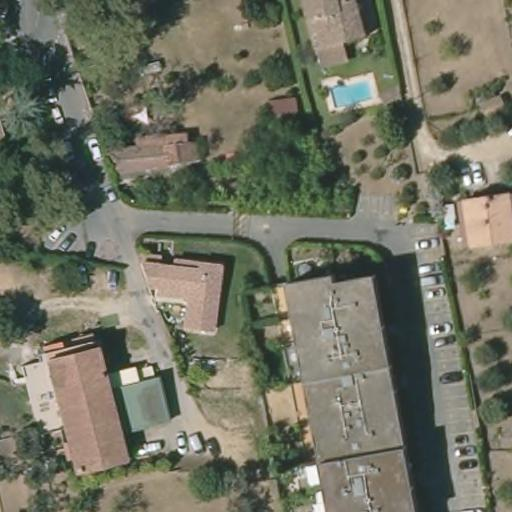pool: (322, 73, 377, 110)
